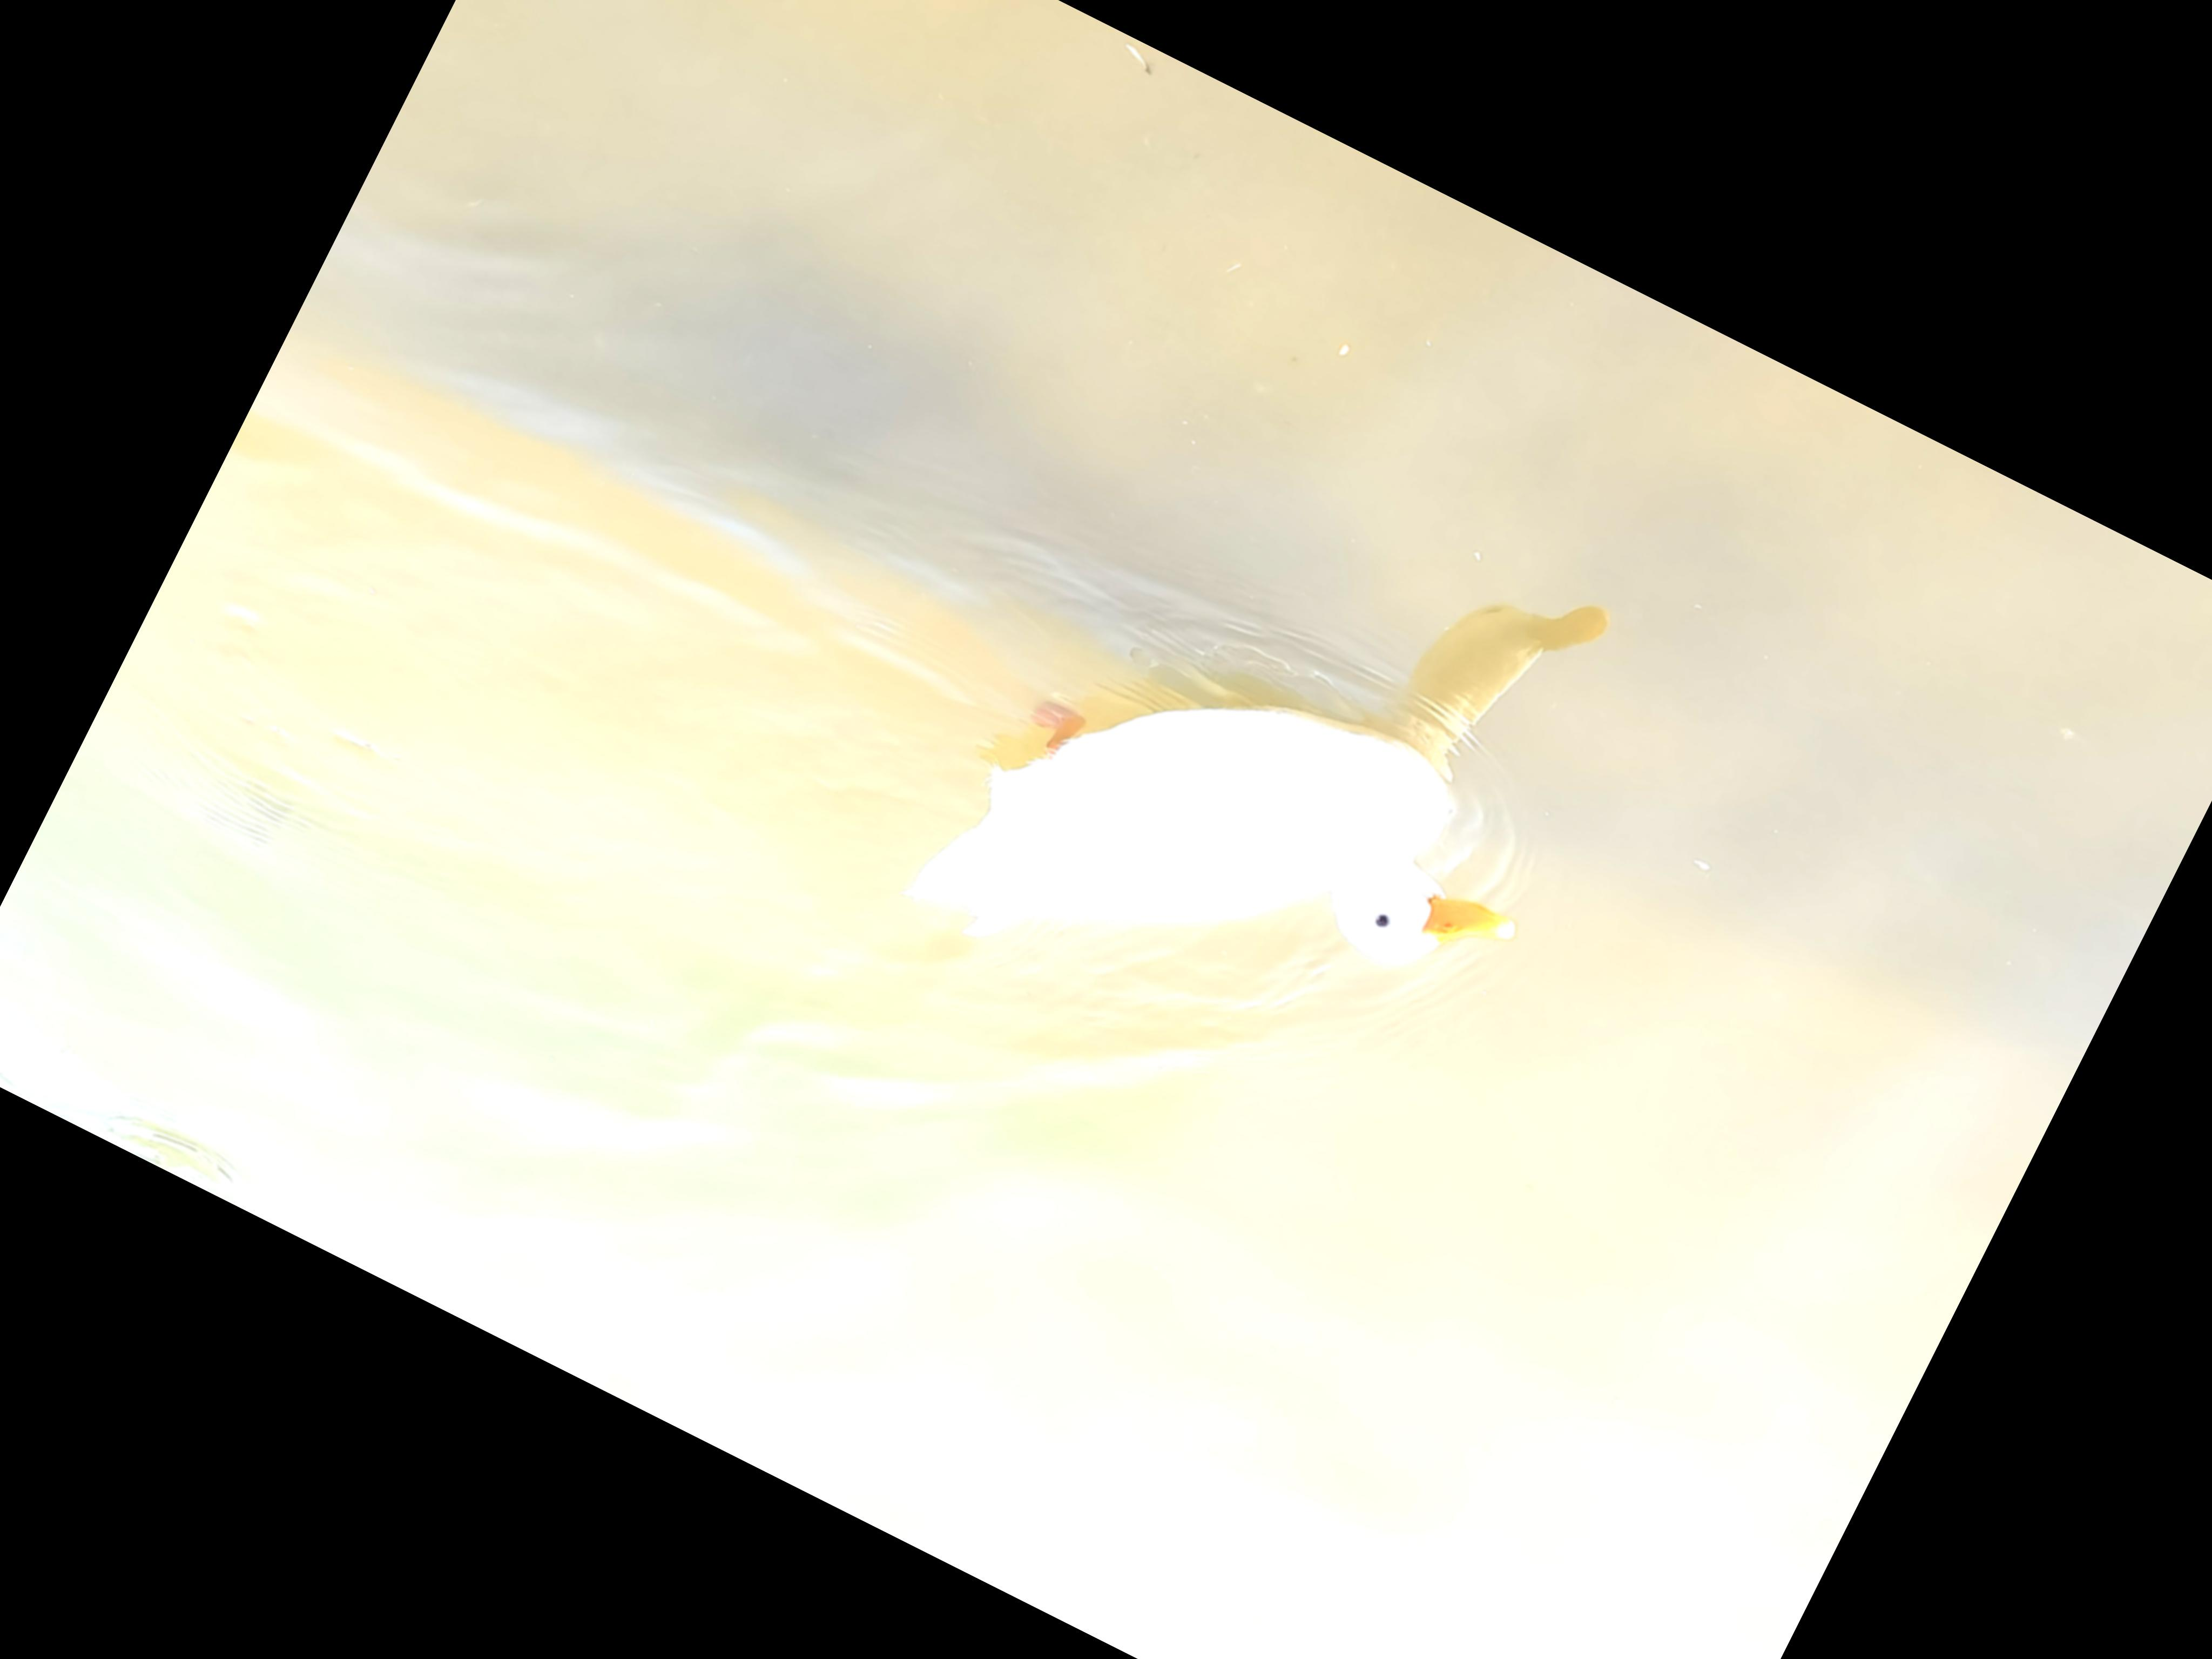duck: (869, 535, 1595, 1182)
